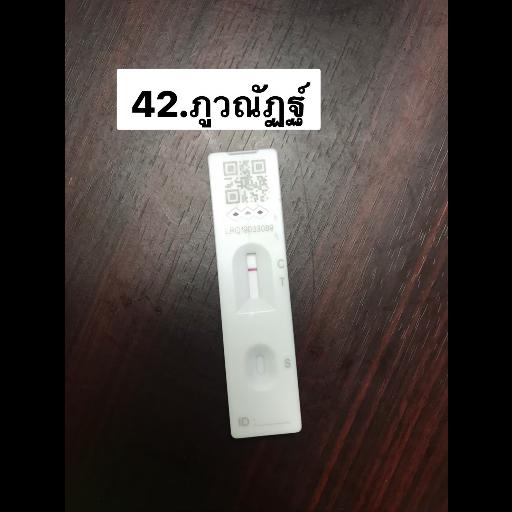Neg: (208, 148, 303, 441)
